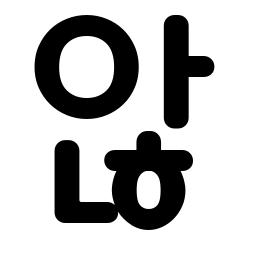Gaji: (152, 47, 203, 91)
